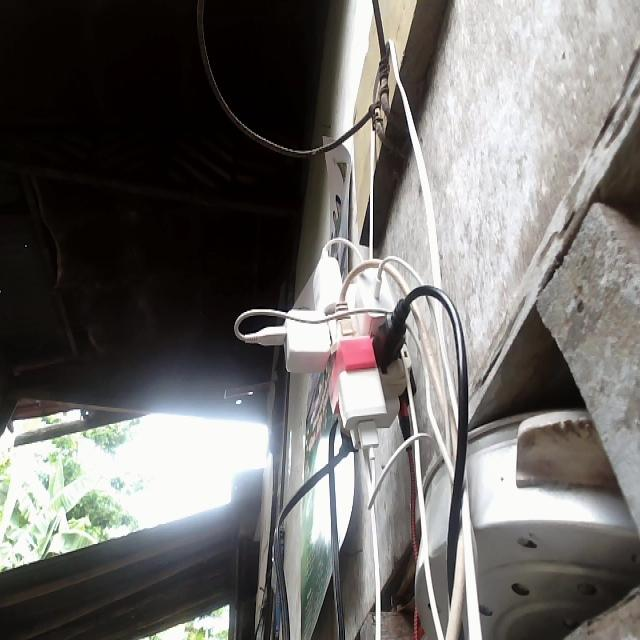-: (266, 232, 417, 473)
